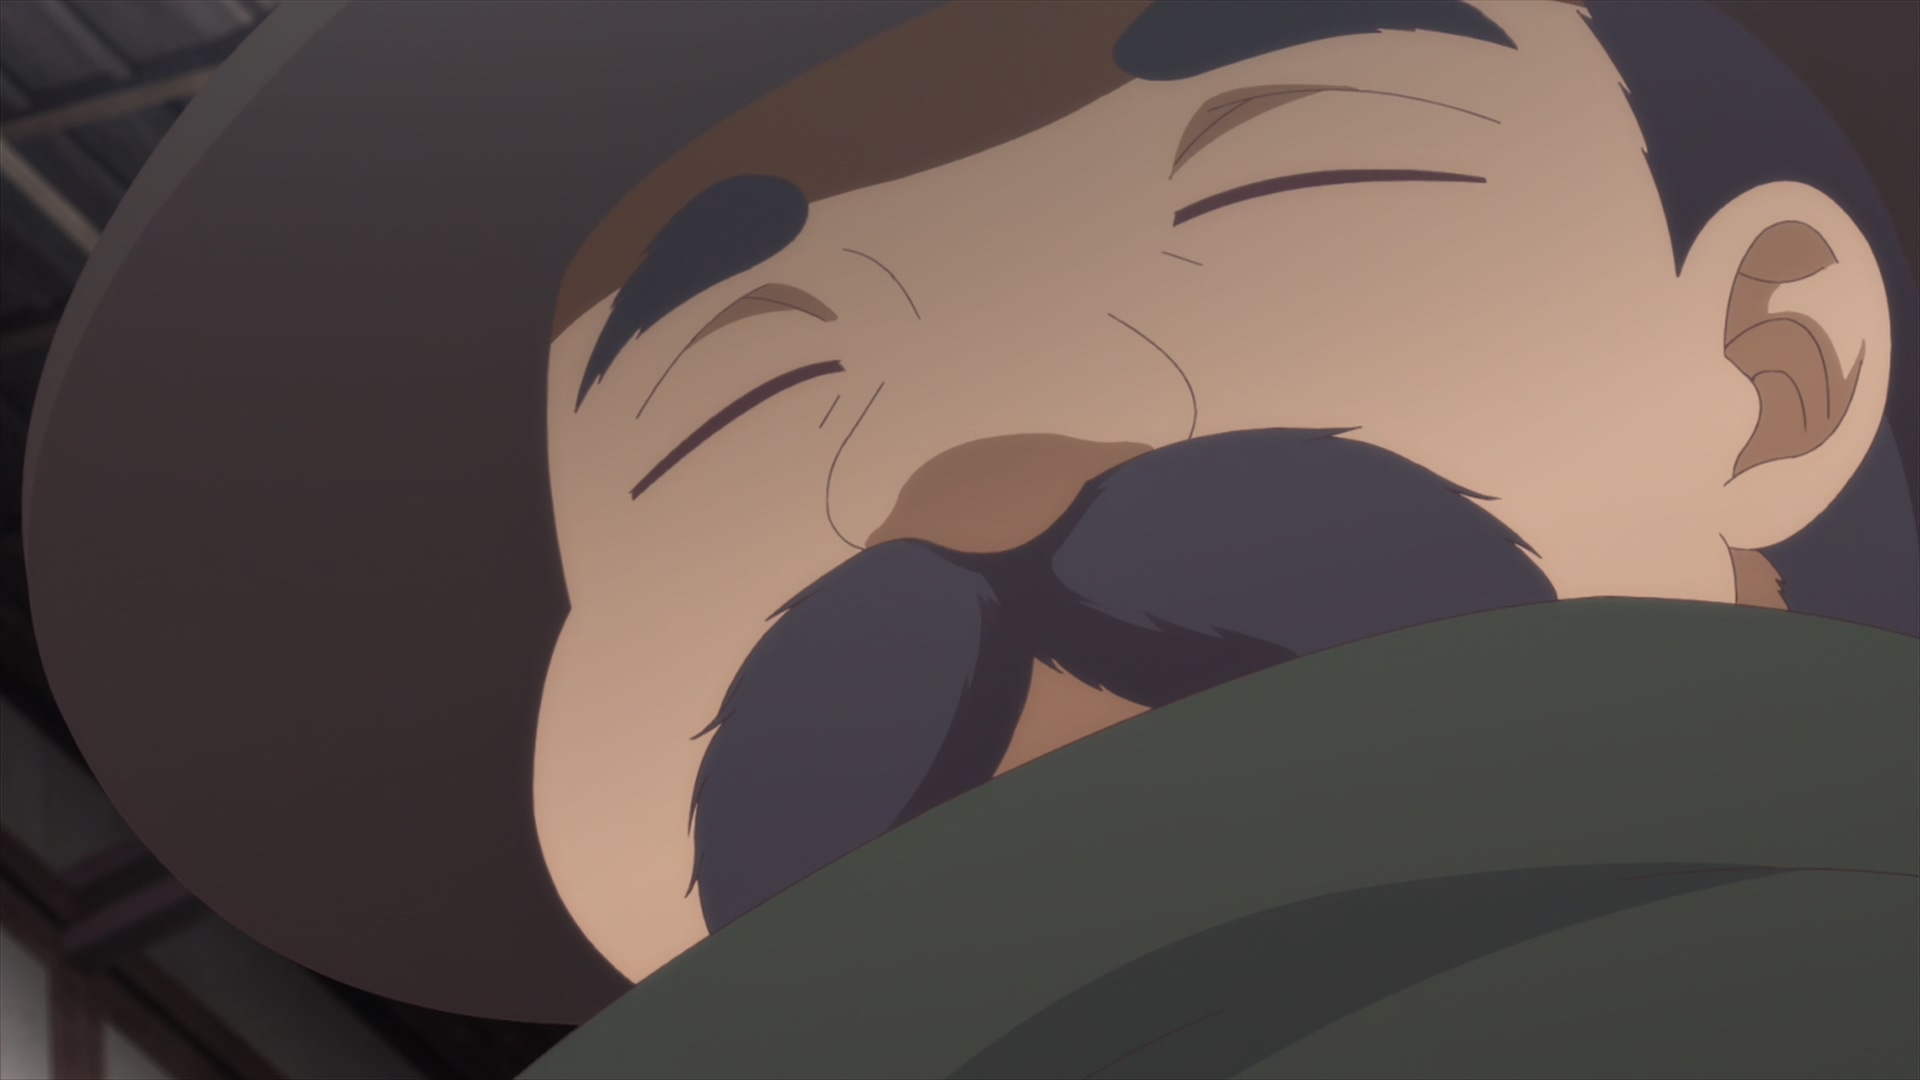其他: (24, 1, 1920, 1080)
